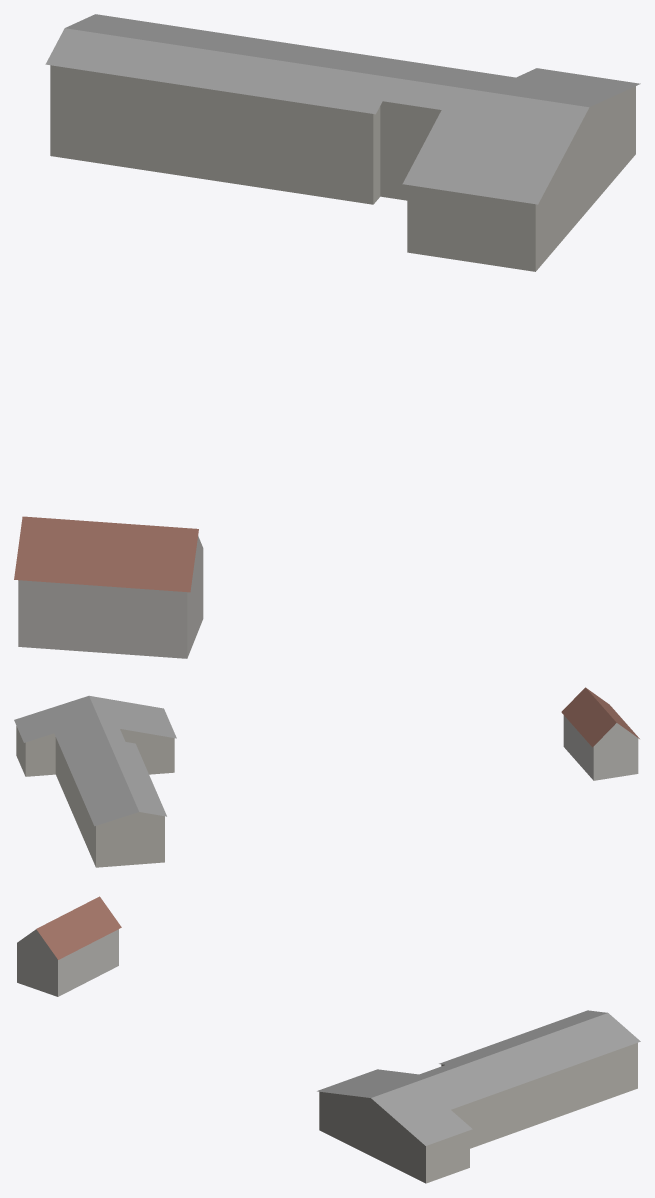
The picture shows the model from 3 angles, top to bottom: view 1: azimuth 30°, elevation 25°; view 2: azimuth 150°, elevation 25°; view 3: azimuth 270°, elevation 25°; orthographic projection. The views are drawn at different scales.
Parts seen in each view (by area): view 1: buildings; view 2: buildings; view 3: buildings.
Part boxes in pixels (left/top/right/bottom): buildings: left=14, top=14, right=640, bottom=658; buildings: left=14, top=687, right=639, bottom=867; buildings: left=17, top=896, right=640, bottom=1183.
Size of the model in its own units: 83.75 by 12.31 by 86.71.
